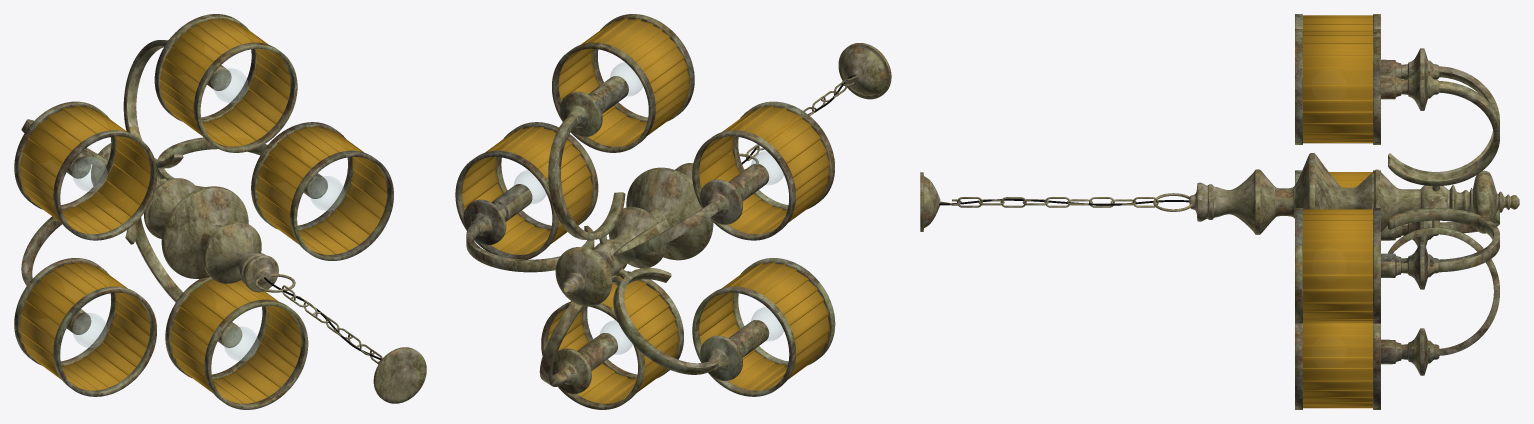
Rendered from 5-Light-Chandelier-N150523.obj.
3 renders of one model, left to right at view 1: azimuth 30°, elevation 25°; view 2: azimuth 150°, elevation 25°; view 3: azimuth 270°, elevation 25°, orthographic.
Parts seen in each view (by area): view 1: Circle019, Circle018, Sphere001, Sphere005, Sphere004, Sphere002, Sphere003; view 2: Circle018, Circle019, Sphere001, Sphere003, Sphere002, Sphere004, Sphere005; view 3: Circle018, Circle019.
Part boxes in pixels (box(x1,y1,x2,y2)): Circle019: box(19, 18, 386, 403); Circle018: box(14, 14, 426, 409); Sphere001: box(73, 313, 107, 347); Sphere005: box(224, 326, 258, 360); Sphere004: box(310, 176, 344, 210); Sphere002: box(73, 157, 107, 191); Sphere003: box(213, 68, 247, 102); Circle018: box(455, 14, 891, 409); Circle019: box(462, 18, 829, 403); Sphere001: box(751, 307, 783, 341); Sphere003: box(610, 62, 642, 96); Sphere002: box(751, 151, 783, 184); Sphere004: box(514, 170, 546, 204); Sphere005: box(600, 320, 632, 354); Circle018: box(920, 14, 1519, 409); Circle019: box(1303, 15, 1372, 408).
Bounding box in the file's own units: 273 × 282 × 420.
